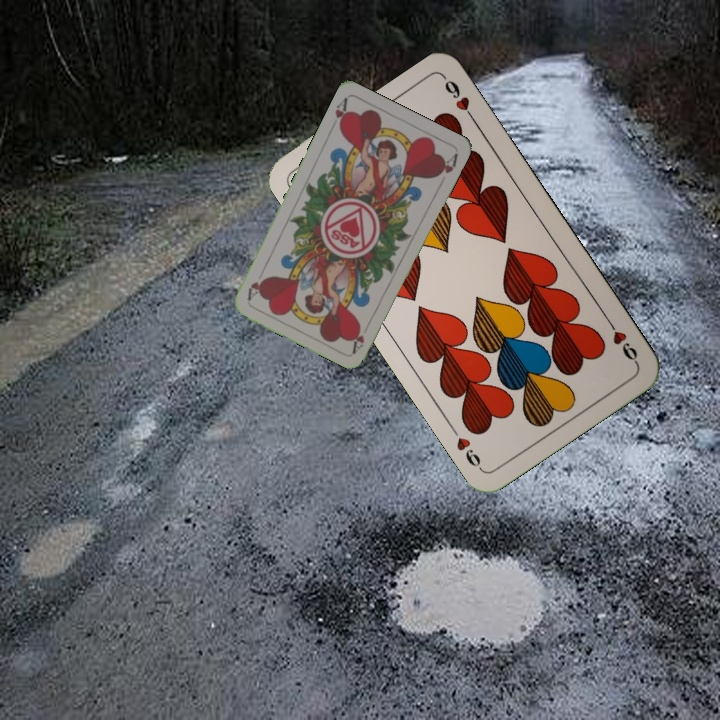H9: (602, 314, 641, 367)
HA: (348, 317, 373, 355), (331, 94, 352, 133)
